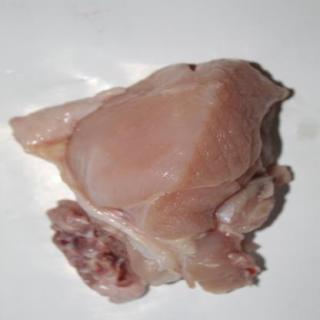Ayam: (14, 59, 286, 302)
